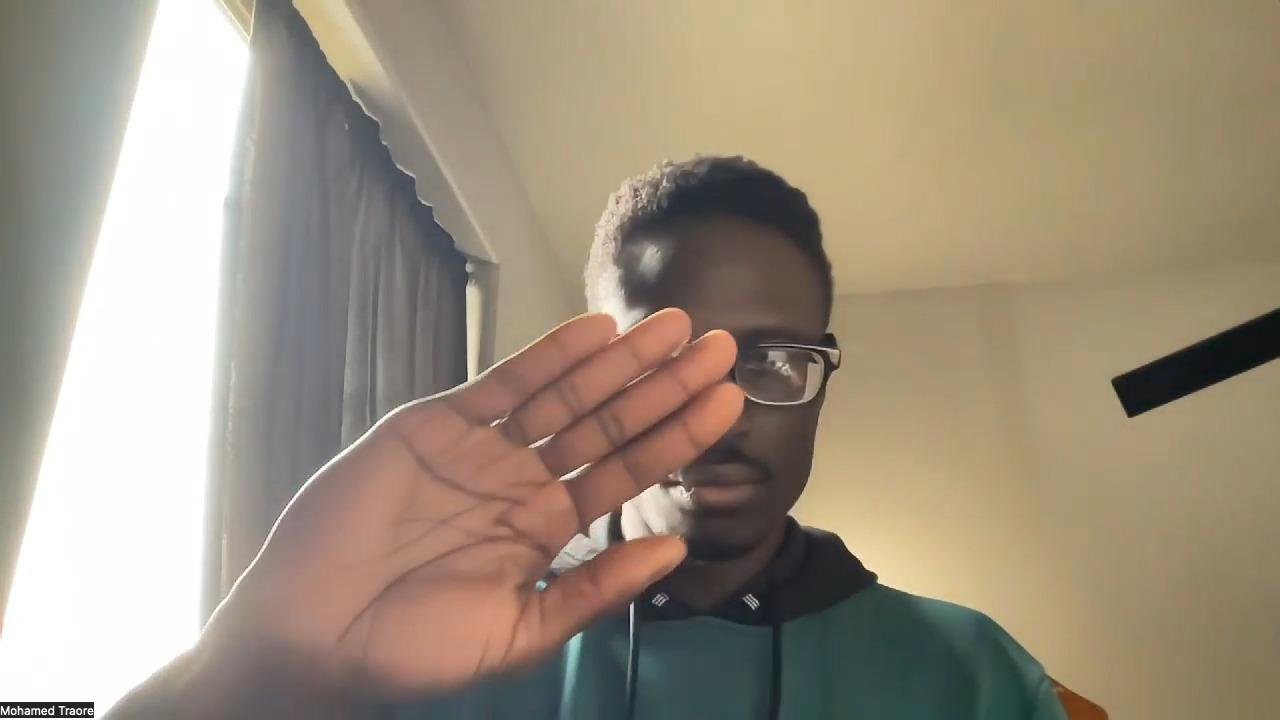Paper: (230, 308, 747, 702)
